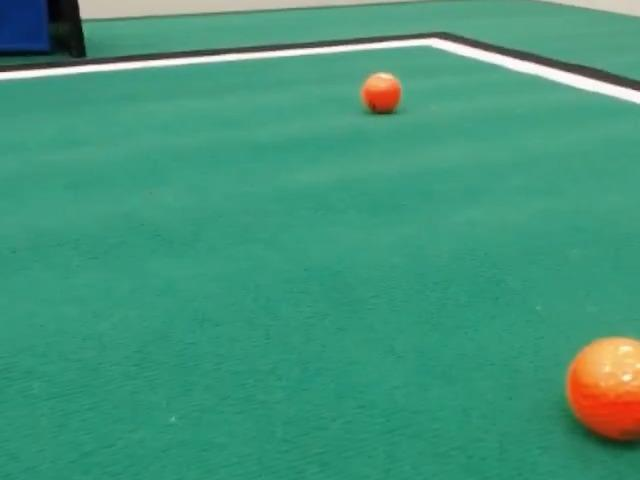Ball: (566, 337, 639, 441), (361, 72, 401, 113)
